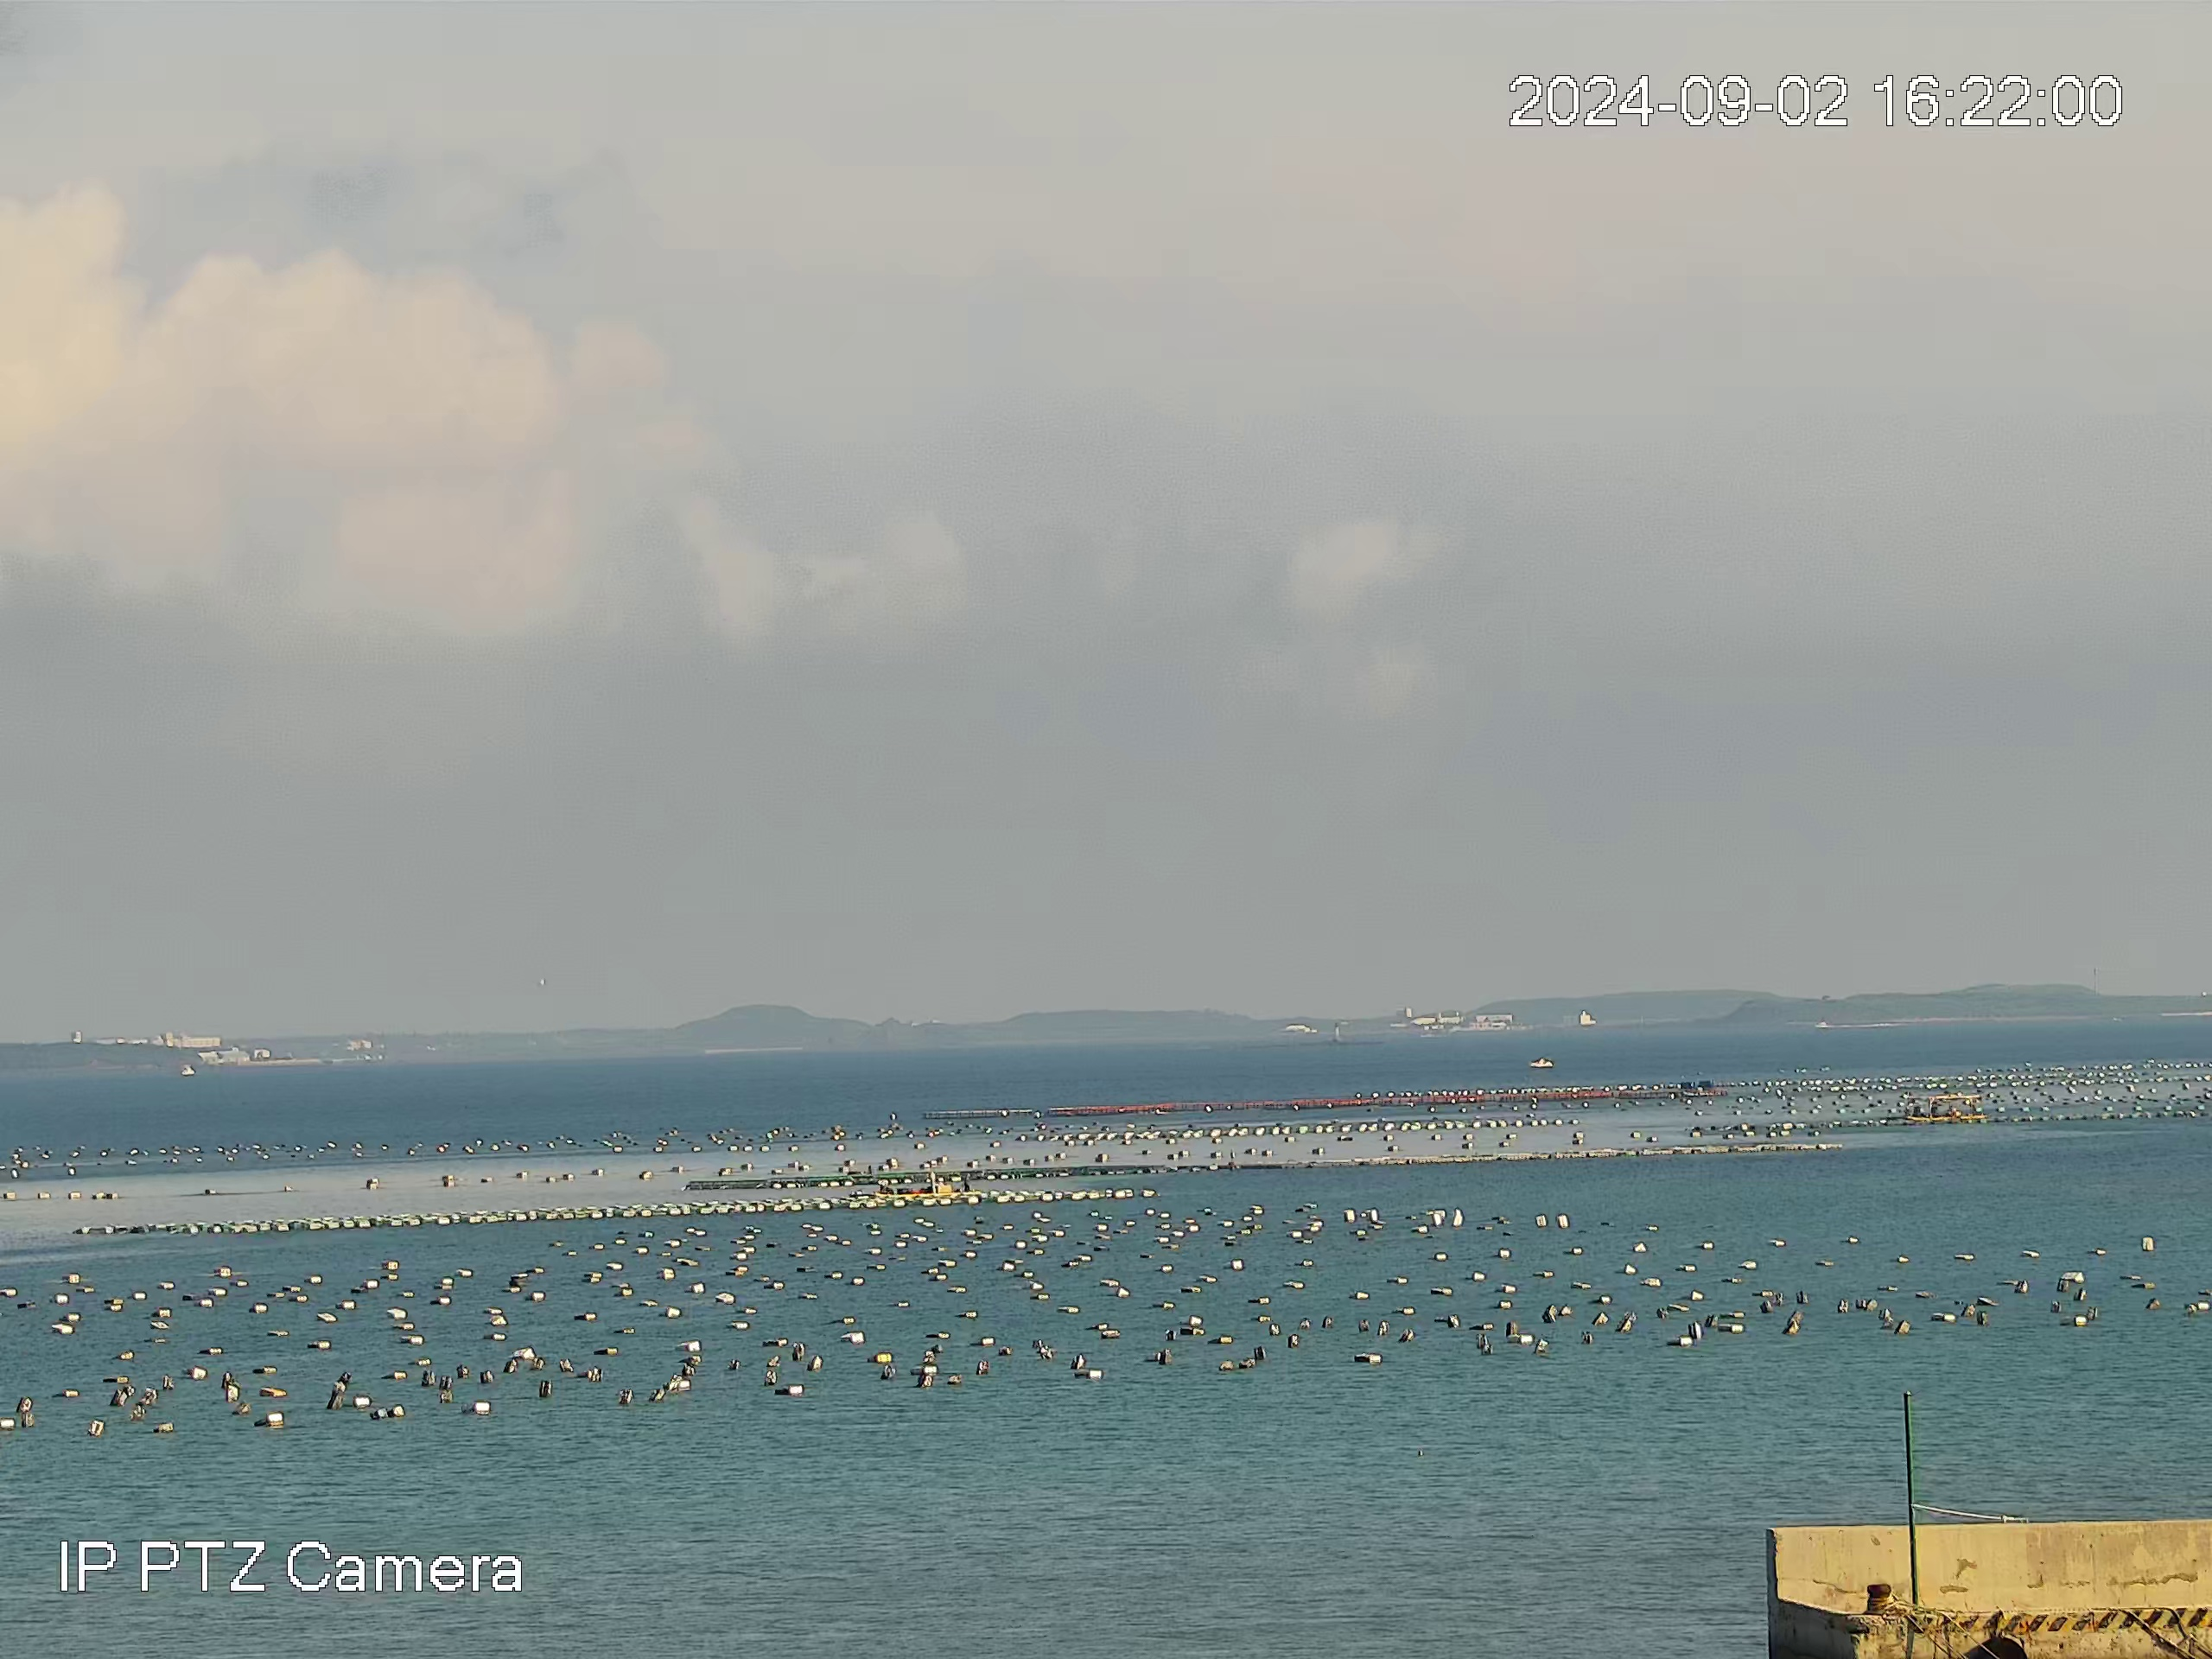boat: (1902, 1093, 1991, 1126), (873, 1173, 984, 1197), (1529, 1056, 1554, 1068)
